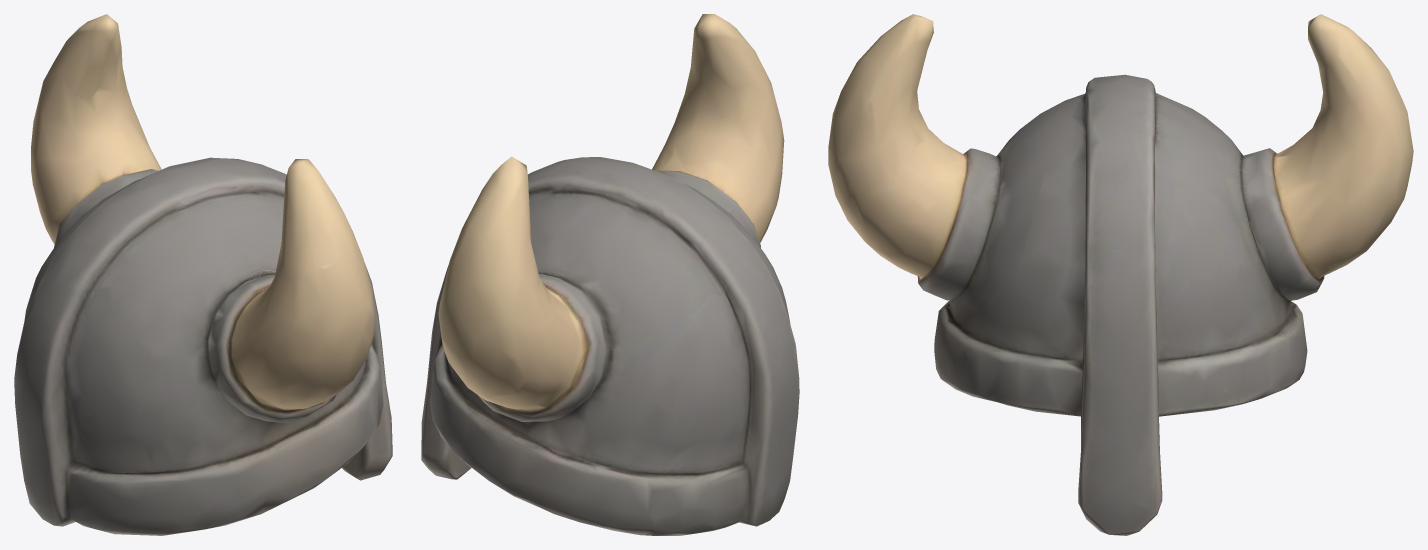
The model's file is hat-viking.glb.
3 views of the same model, side by side, from view 1: azimuth 30°, elevation 25°; view 2: azimuth 150°, elevation 25°; view 3: azimuth 270°, elevation 25° (orthographic). The views are drawn at different scales.
Visible parts, largest first — view 1: tripo_node_c6f3047b-952f-4364-a149-4e579c356c00; view 2: tripo_node_c6f3047b-952f-4364-a149-4e579c356c00; view 3: tripo_node_c6f3047b-952f-4364-a149-4e579c356c00.
Part boxes in pixels (x1,y1,x2,y2): tripo_node_c6f3047b-952f-4364-a149-4e579c356c00: (14, 14, 392, 535); tripo_node_c6f3047b-952f-4364-a149-4e579c356c00: (421, 14, 799, 535); tripo_node_c6f3047b-952f-4364-a149-4e579c356c00: (828, 14, 1413, 535).
Bounding box in the file's own units: 0.7109 × 0.8284 × 1.
1 material, 1 textured.
